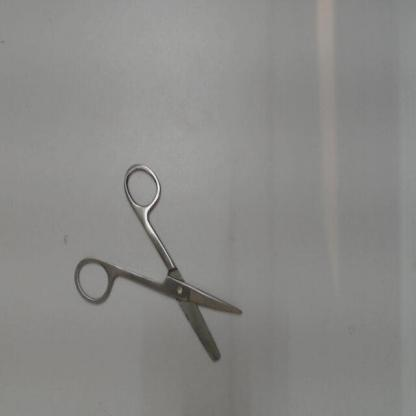Dressing Scissors: (68, 155, 252, 378)
